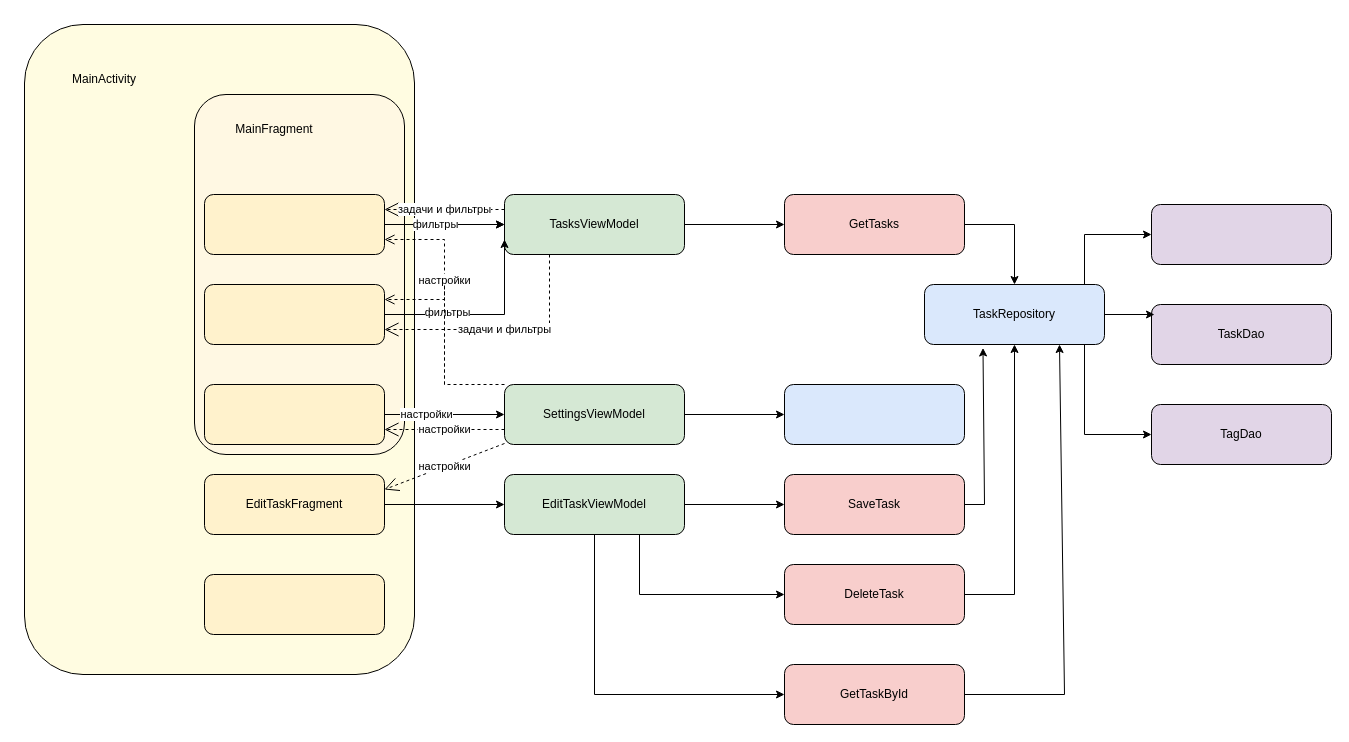
Some shapes in this 1349 by 742 pixel diagram are drawn without their labels. The centre of each missing label's shape, as x and y in pixels:
"AboutFragment" belongs at point 294,604.
"AllTasksFragment" belongs at point 294,224.
"AppDatabase" belongs at point 1241,234.
"CurrentTasksFragment" belongs at point 294,314.
"SettingsFragment" belongs at point 294,414.
"SettingsRepository" belongs at point 874,414.
